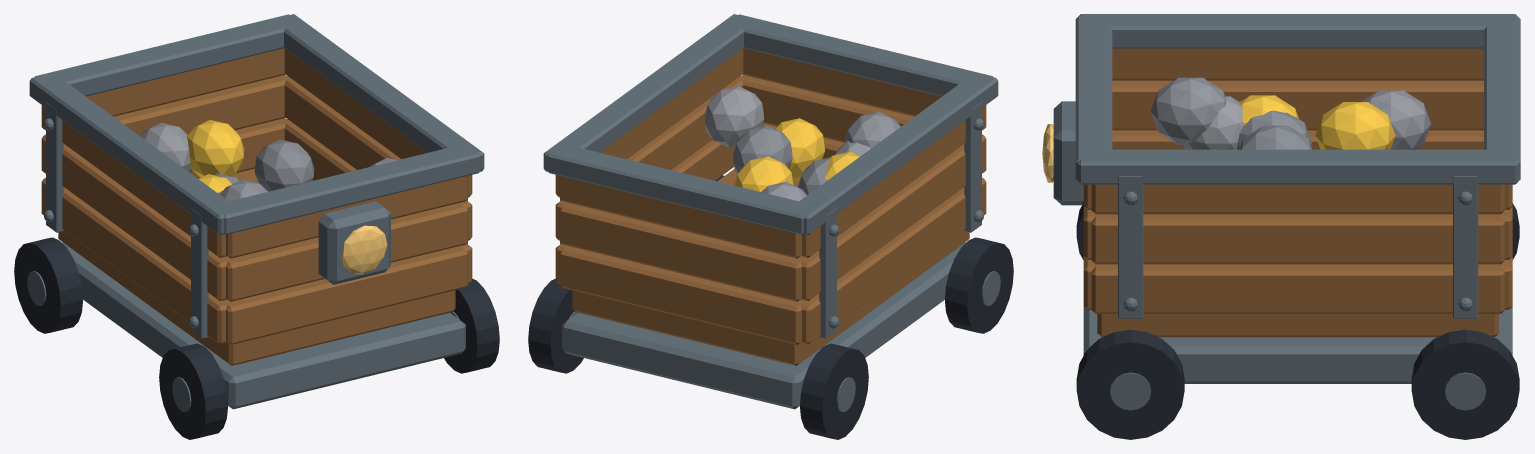
File: MineCart.fbx
3 views of the same model, side by side, from view 1: azimuth 30°, elevation 25°; view 2: azimuth 150°, elevation 25°; view 3: azimuth 270°, elevation 25° (orthographic). The views are drawn at different scales.
Parts seen in each view (by area): view 1: CartChassis, EndPlank, EndRim, EndRim.001, SteelRim, EndPlank.001, CartBed, SteelRim.001, SidePlank.001, SidePlank, EndPlank.004, EndPlank.005 (+19 smaller); view 2: CartChassis, EndPlank.003, EndPlank.004, EndRim.001, SteelRim, CartBed, EndRim, SteelRim.001, SidePlank.001, SidePlank, EndPlank.005, EndPlank.002 (+20 smaller); view 3: SidePlank.004, SidePlank.003, SteelRim.001, SteelRim, CartChassis, SidePlank.002, SidePlank.005, SidePlank.001, CartBed, CircularWheel.003, CircularWheel.002, EndRim.001 (+19 smaller).
Part boxes in pixels (x1,y1,x2,y2): CartChassis: [62, 242, 465, 409]; EndPlank: [226, 247, 468, 344]; EndRim: [223, 148, 480, 234]; EndRim.001: [34, 14, 301, 96]; SteelRim: [29, 77, 240, 235]; EndPlank.001: [226, 204, 468, 301]; CartBed: [58, 168, 455, 365]; SteelRim.001: [284, 14, 484, 171]; SidePlank.001: [41, 134, 231, 300]; SidePlank: [41, 178, 231, 344]; EndPlank.004: [45, 75, 290, 135]; EndPlank.005: [86, 48, 285, 116]; CartChassis: [562, 242, 965, 409]; EndPlank.003: [559, 246, 804, 344]; EndPlank.004: [559, 203, 803, 301]; EndRim.001: [547, 143, 815, 234]; SteelRim: [799, 73, 998, 235]; CartBed: [572, 169, 969, 365]; EndRim: [739, 14, 993, 96]; SteelRim.001: [543, 14, 754, 171]; SidePlank.001: [800, 134, 986, 300]; SidePlank: [800, 178, 986, 344]; EndPlank.005: [559, 176, 801, 258]; EndPlank.002: [742, 48, 941, 116]; SidePlank.004: [1091, 214, 1504, 264]; SidePlank.003: [1091, 264, 1504, 313]; SteelRim.001: [1078, 149, 1518, 184]; SteelRim: [1078, 14, 1517, 48]; CartChassis: [1083, 306, 1512, 383]; SidePlank.002: [1112, 48, 1483, 80]; SidePlank.005: [1091, 184, 1504, 214]; SidePlank.001: [1112, 80, 1483, 130]; CartBed: [1097, 314, 1498, 337]; CircularWheel.003: [1411, 329, 1519, 439]; CircularWheel.002: [1076, 329, 1184, 439]; EndRim.001: [1484, 16, 1520, 180].
Bounding box in the file's own units: 173 × 130 × 209.
